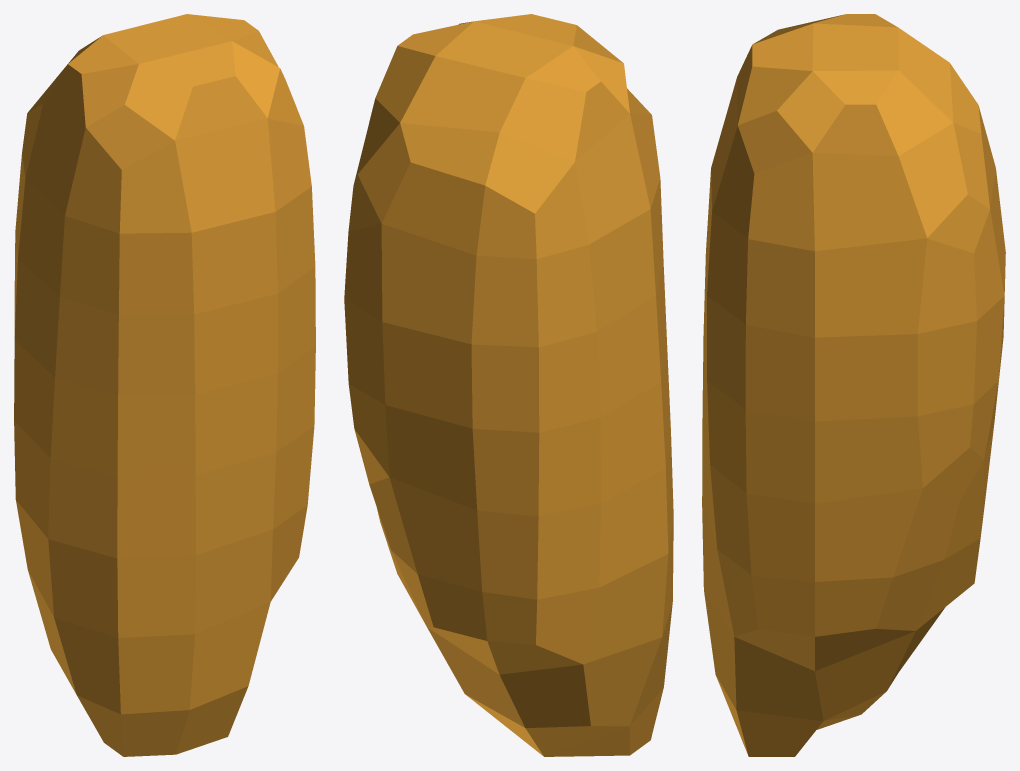
File: Bee_Wax_Stalactite_001.fbx
3 views of the same model, side by side, from view 1: azimuth 30°, elevation 25°; view 2: azimuth 150°, elevation 25°; view 3: azimuth 270°, elevation 25° (orthographic). The views are drawn at different scales.
Visible parts, largest first — view 1: Bee_Wax_Stalactite.Backup; view 2: Bee_Wax_Stalactite.Backup; view 3: Bee_Wax_Stalactite.Backup.
Boxes of the visible parts, left/top/right/bottom form: Bee_Wax_Stalactite.Backup: left=14, top=14, right=315, bottom=756; Bee_Wax_Stalactite.Backup: left=344, top=14, right=673, bottom=756; Bee_Wax_Stalactite.Backup: left=702, top=14, right=1005, bottom=756.
Size of the model in its own units: 4636 by 11403 by 4440.
